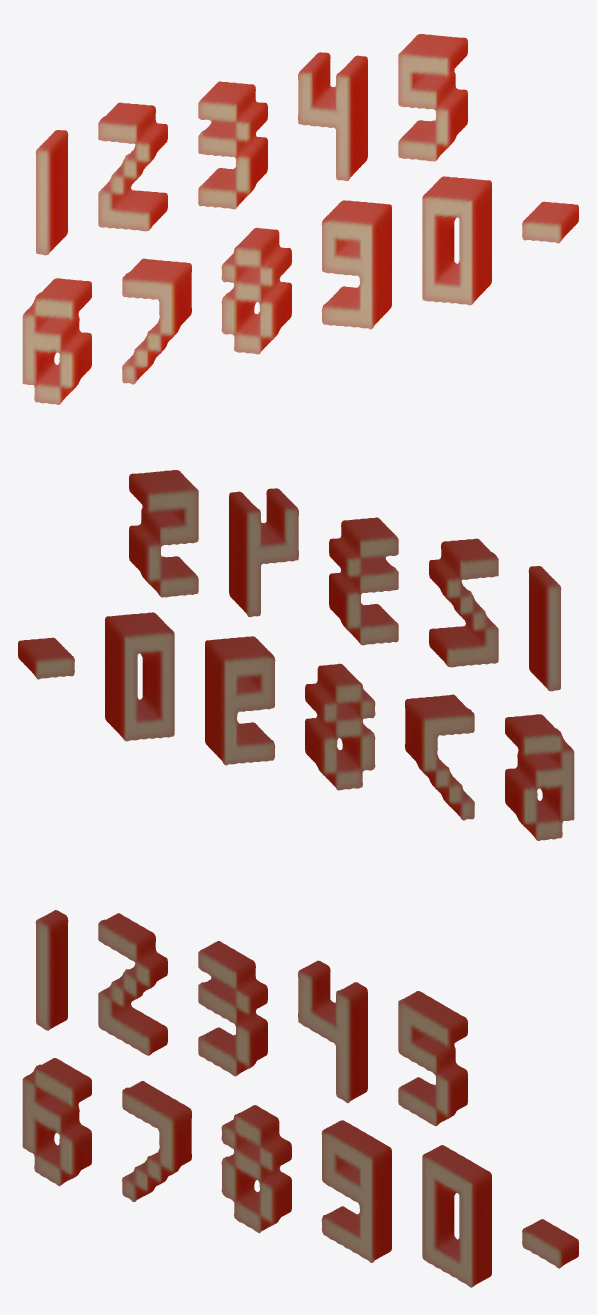
Rendered from Font Isometric Numbers R.FBX.
3 renders of one model, top to bottom at view 1: azimuth 30°, elevation 25°; view 2: azimuth 150°, elevation 25°; view 3: azimuth 330°, elevation 25°, orthographic.
Parts seen in each view (by area): view 1: 0, 9, 5, 6, 8, 3, 2, 4, 7, 1, -; view 2: 0, 9, 5, 6, 8, 3, 2, 4, 7, 1, -; view 3: 0, 9, 6, 5, 8, 3, 2, 4, 7, 1, -.
Part boxes in pixels (left/top/right/bottom): 0: left=422, top=176, right=491, bottom=305; 9: left=321, top=200, right=391, bottom=329; 5: left=398, top=34, right=467, bottom=161; 6: left=22, top=278, right=91, bottom=404; 8: left=221, top=227, right=291, bottom=354; 3: left=198, top=81, right=267, bottom=209; 2: left=98, top=102, right=167, bottom=231; 4: left=298, top=52, right=367, bottom=181; 7: left=122, top=258, right=191, bottom=384; 1: left=35, top=130, right=68, bottom=255; -: left=522, top=201, right=578, bottom=243; 0: left=105, top=612, right=174, bottom=741; 9: left=205, top=636, right=275, bottom=765; 5: left=129, top=470, right=198, bottom=597; 6: left=505, top=714, right=574, bottom=840; 8: left=305, top=663, right=375, bottom=790; 3: left=329, top=517, right=398, bottom=645; 2: left=429, top=538, right=498, bottom=667; 4: left=229, top=488, right=298, bottom=617; 7: left=405, top=694, right=474, bottom=820; 1: left=528, top=566, right=561, bottom=691; -: left=18, top=637, right=74, bottom=679; 0: left=422, top=1145, right=491, bottom=1287; 9: left=321, top=1120, right=391, bottom=1262; 6: left=22, top=1058, right=91, bottom=1186; 5: left=398, top=991, right=467, bottom=1126; 8: left=221, top=1105, right=291, bottom=1233; 3: left=198, top=941, right=267, bottom=1076; 2: left=98, top=913, right=167, bottom=1055; 4: left=298, top=960, right=367, bottom=1103; 7: left=122, top=1081, right=191, bottom=1201; 1: left=35, top=910, right=68, bottom=1030; -: left=522, top=1219, right=578, bottom=1268.
Bounding box in the file's own units: 200 × 1.61e-05 × 98.83.
